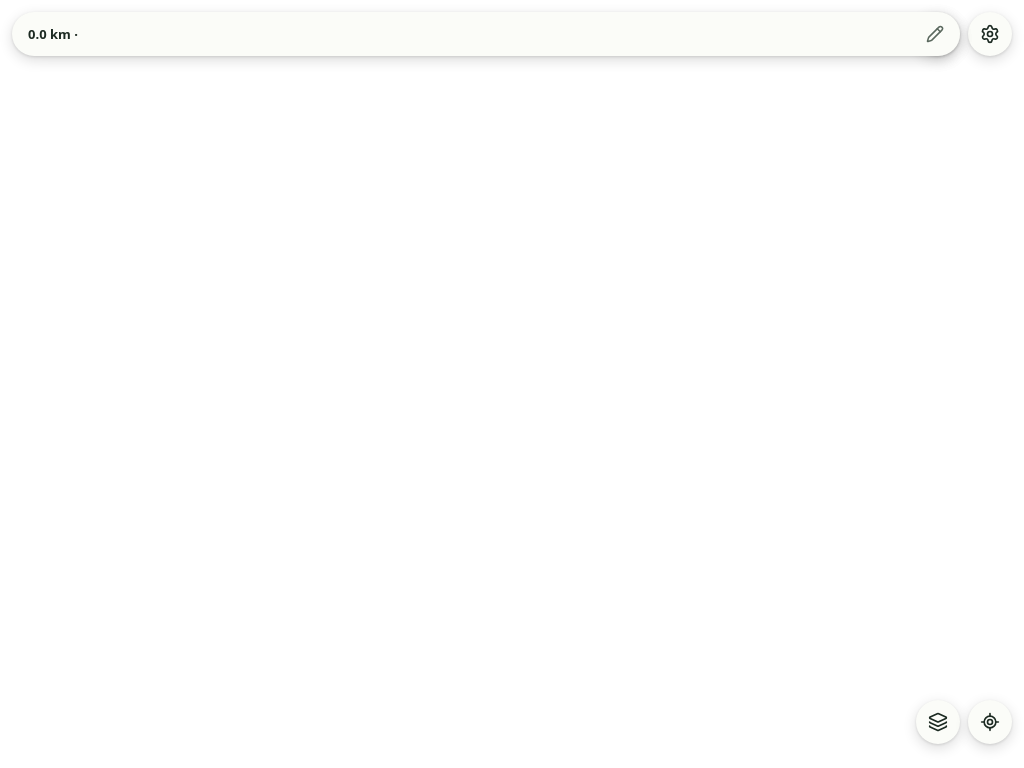
Scenario: CriteriaView › criteria › asks for routes from the layer, which closes
Click the button with test id "criteria-bar" at (53, 34), box [12,12,960,56]
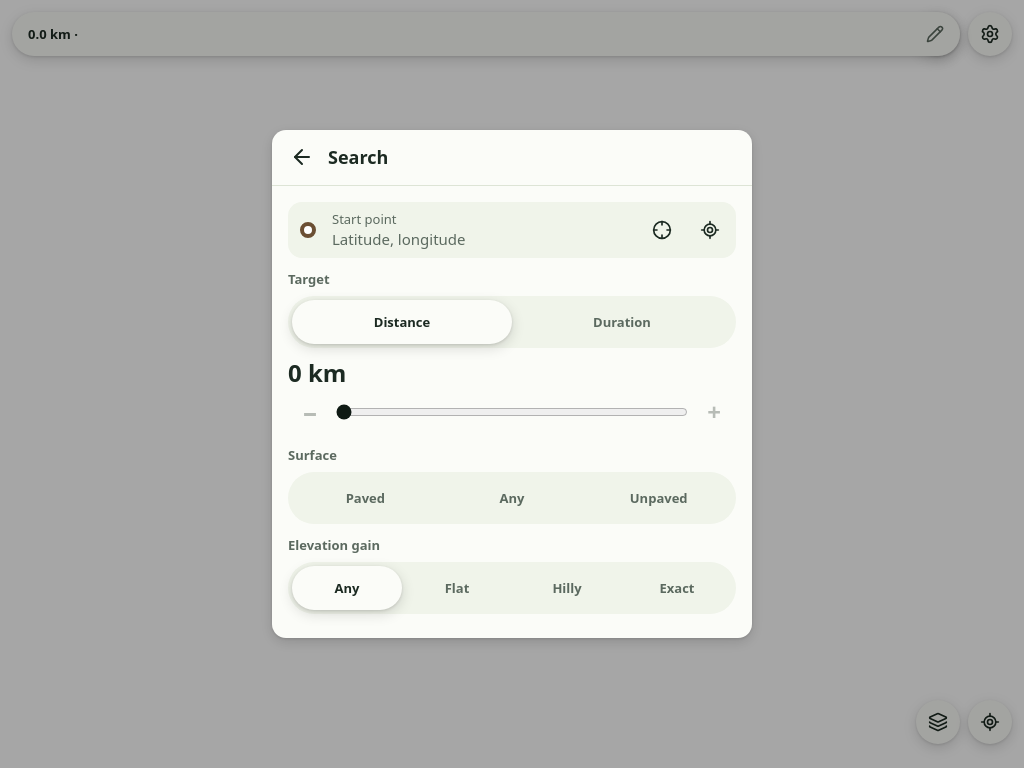
Type "45.8, 6.2" into the field with test id "criteria-start" at (478, 239), box [332,228,624,250]
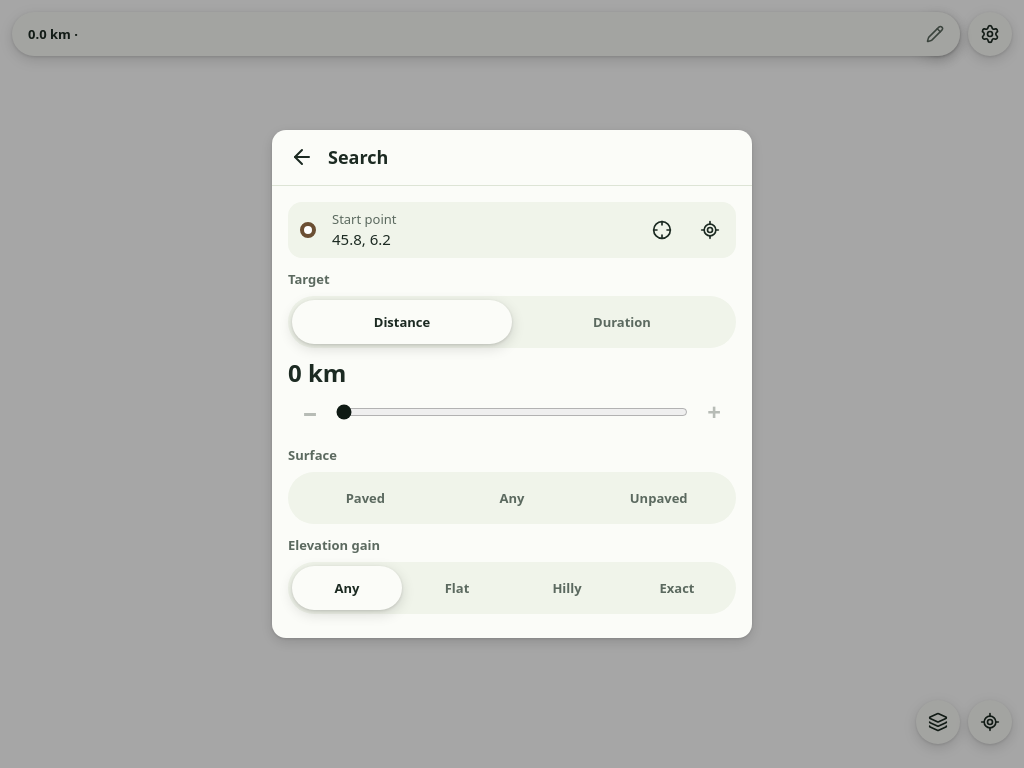
Press Enter in the field with test id "criteria-start", box [332,228,624,250]
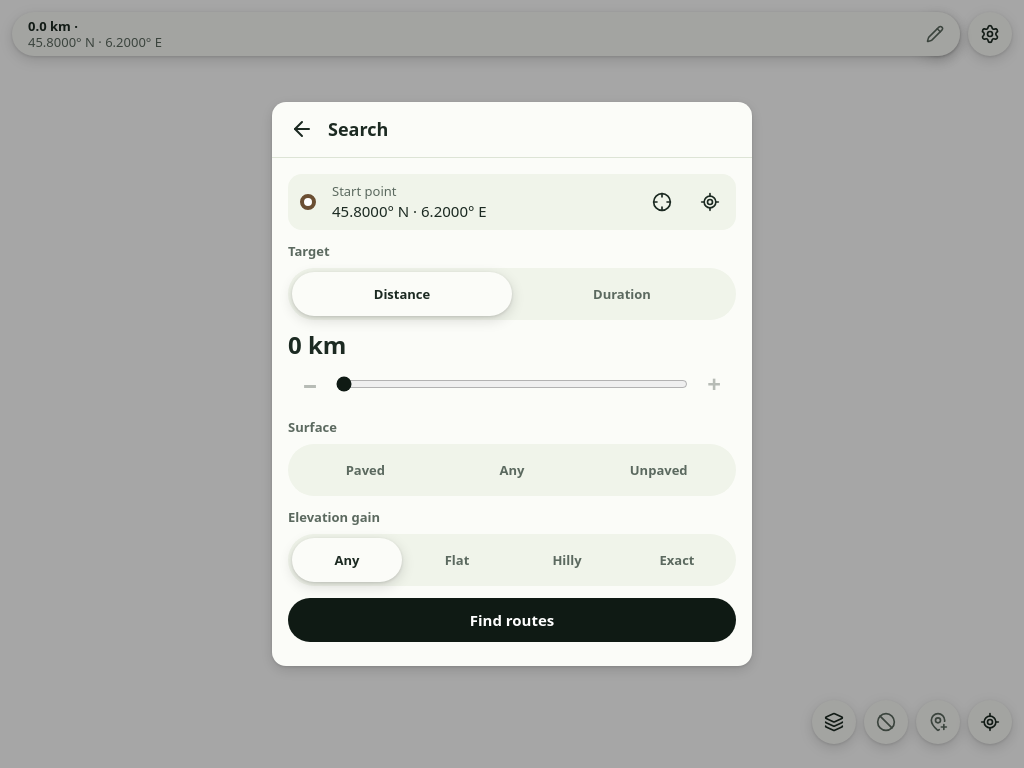
Click the button with test id "criteria-submit" at (512, 620), box [288,598,736,642]
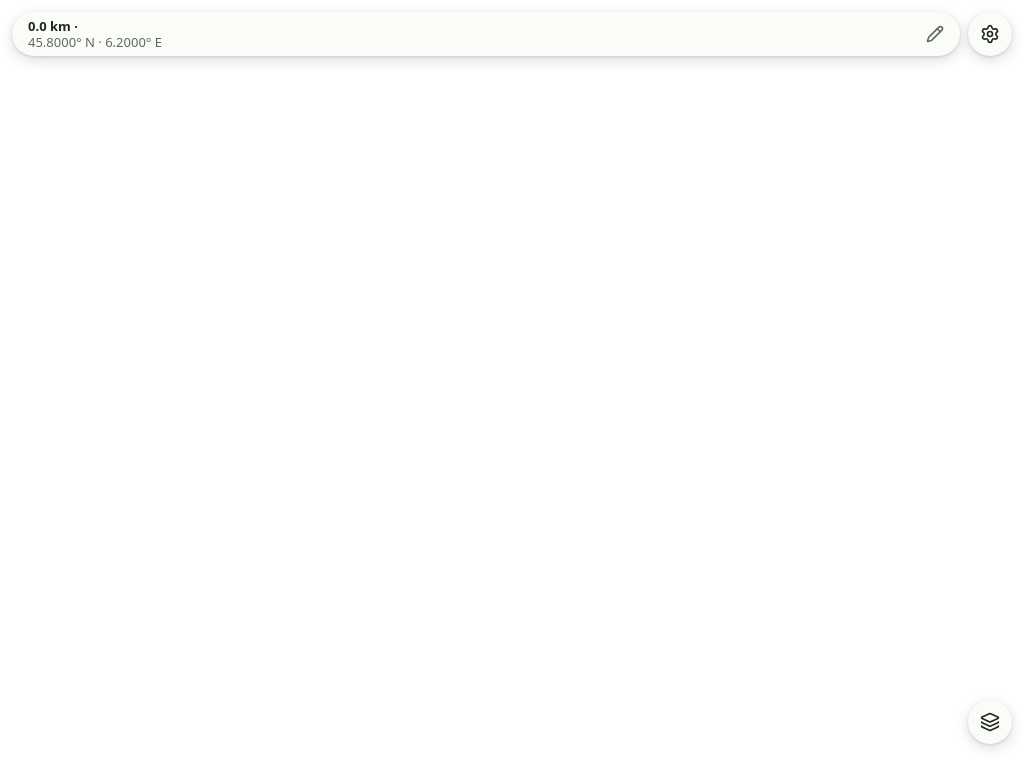
Now the dialog with test id "sub-page" is gone
